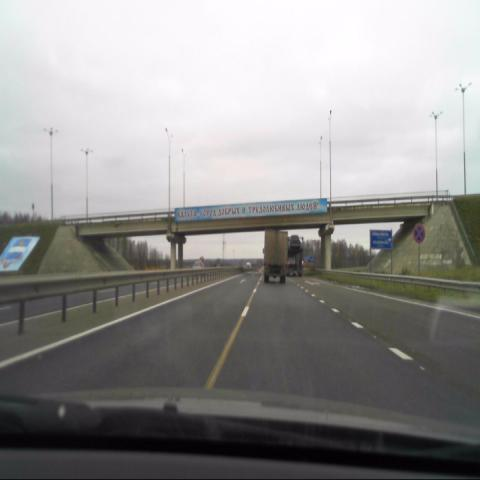3_27: (414, 224, 424, 246)
